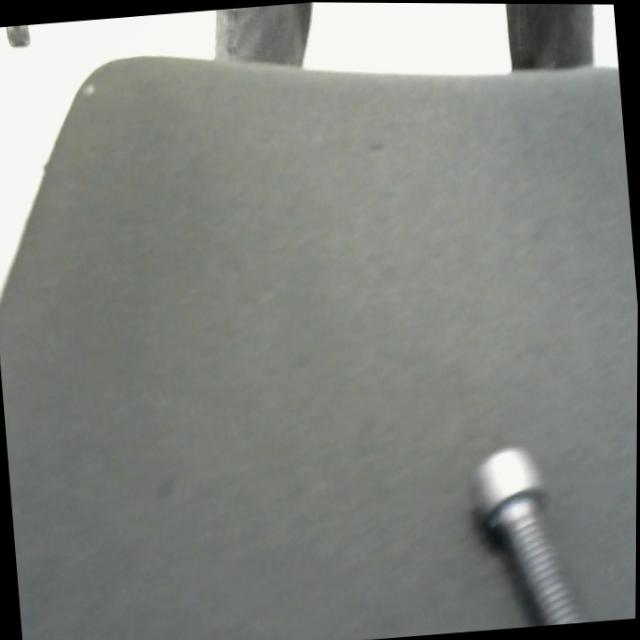SocketHeadCapScrew: (456, 418, 603, 631)
